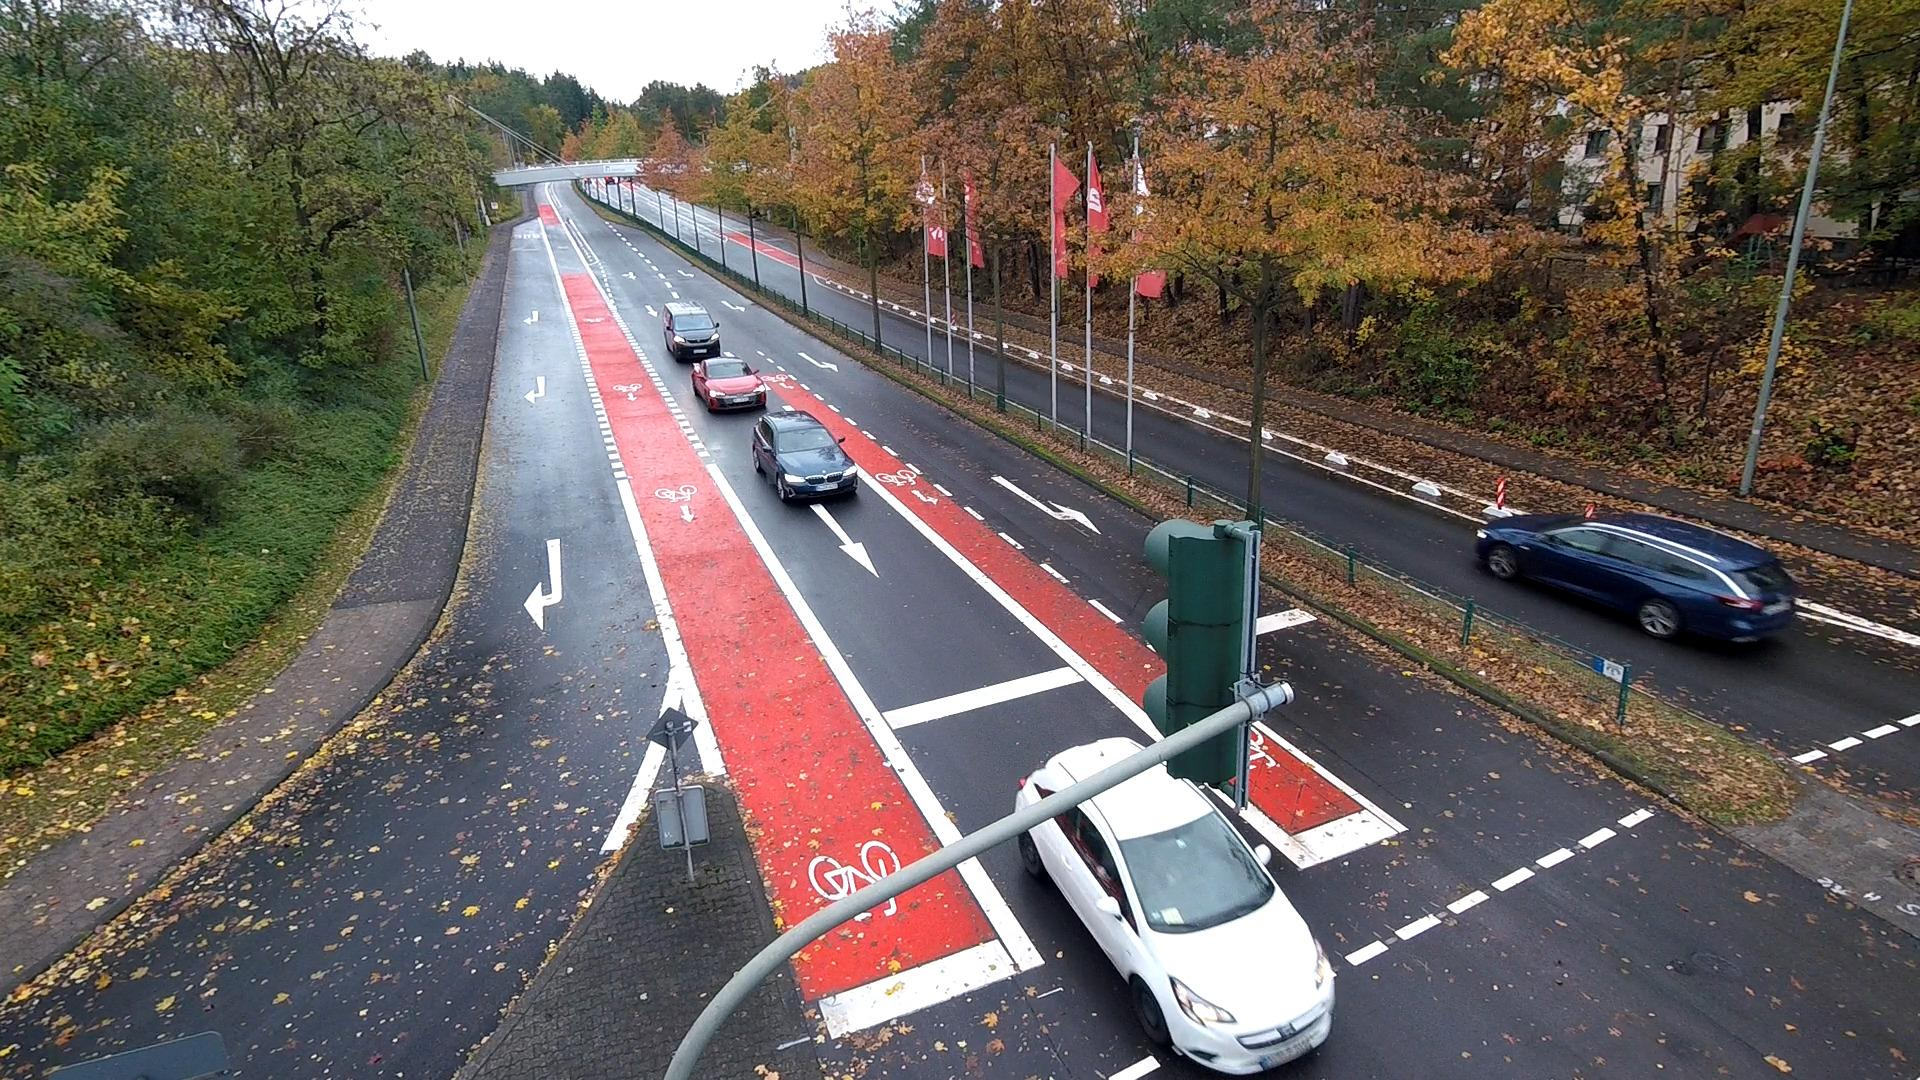bicycle-lane: (533, 182, 964, 936), (1262, 396, 1920, 638), (790, 855, 1046, 1042), (1241, 721, 1406, 869), (1131, 361, 1254, 425), (804, 253, 873, 295), (1002, 320, 1054, 357), (876, 284, 928, 315), (753, 239, 800, 269), (1091, 348, 1129, 384), (1201, 782, 1238, 810), (1056, 339, 1087, 368), (721, 225, 753, 248), (971, 313, 997, 339), (695, 211, 723, 236), (633, 186, 659, 204), (949, 307, 969, 328), (930, 301, 947, 322), (661, 198, 675, 211), (678, 207, 694, 218), (620, 179, 632, 189)
car: (1019, 761, 1337, 1077), (1478, 510, 1801, 642), (1013, 736, 1145, 814), (753, 409, 860, 502), (690, 357, 766, 411), (665, 301, 720, 361), (600, 175, 616, 185), (579, 178, 593, 185)
car-lane: (0, 220, 680, 1080), (550, 181, 1168, 840), (1195, 574, 1920, 1080), (1261, 446, 1920, 833), (808, 833, 1193, 1080), (1131, 397, 1254, 510), (804, 270, 877, 343), (1002, 352, 1052, 419), (880, 306, 927, 364), (757, 251, 804, 307), (1091, 385, 1129, 455), (1056, 371, 1088, 434), (724, 237, 756, 282), (753, 225, 798, 255), (973, 342, 997, 396), (696, 224, 724, 268), (634, 193, 662, 228), (952, 334, 971, 382), (676, 211, 699, 251), (931, 324, 949, 371), (721, 214, 753, 237), (661, 203, 679, 240), (695, 203, 719, 224), (633, 182, 659, 199), (620, 185, 633, 212), (607, 186, 620, 210), (582, 183, 599, 199), (676, 198, 694, 211), (600, 182, 609, 206), (658, 191, 675, 203)
